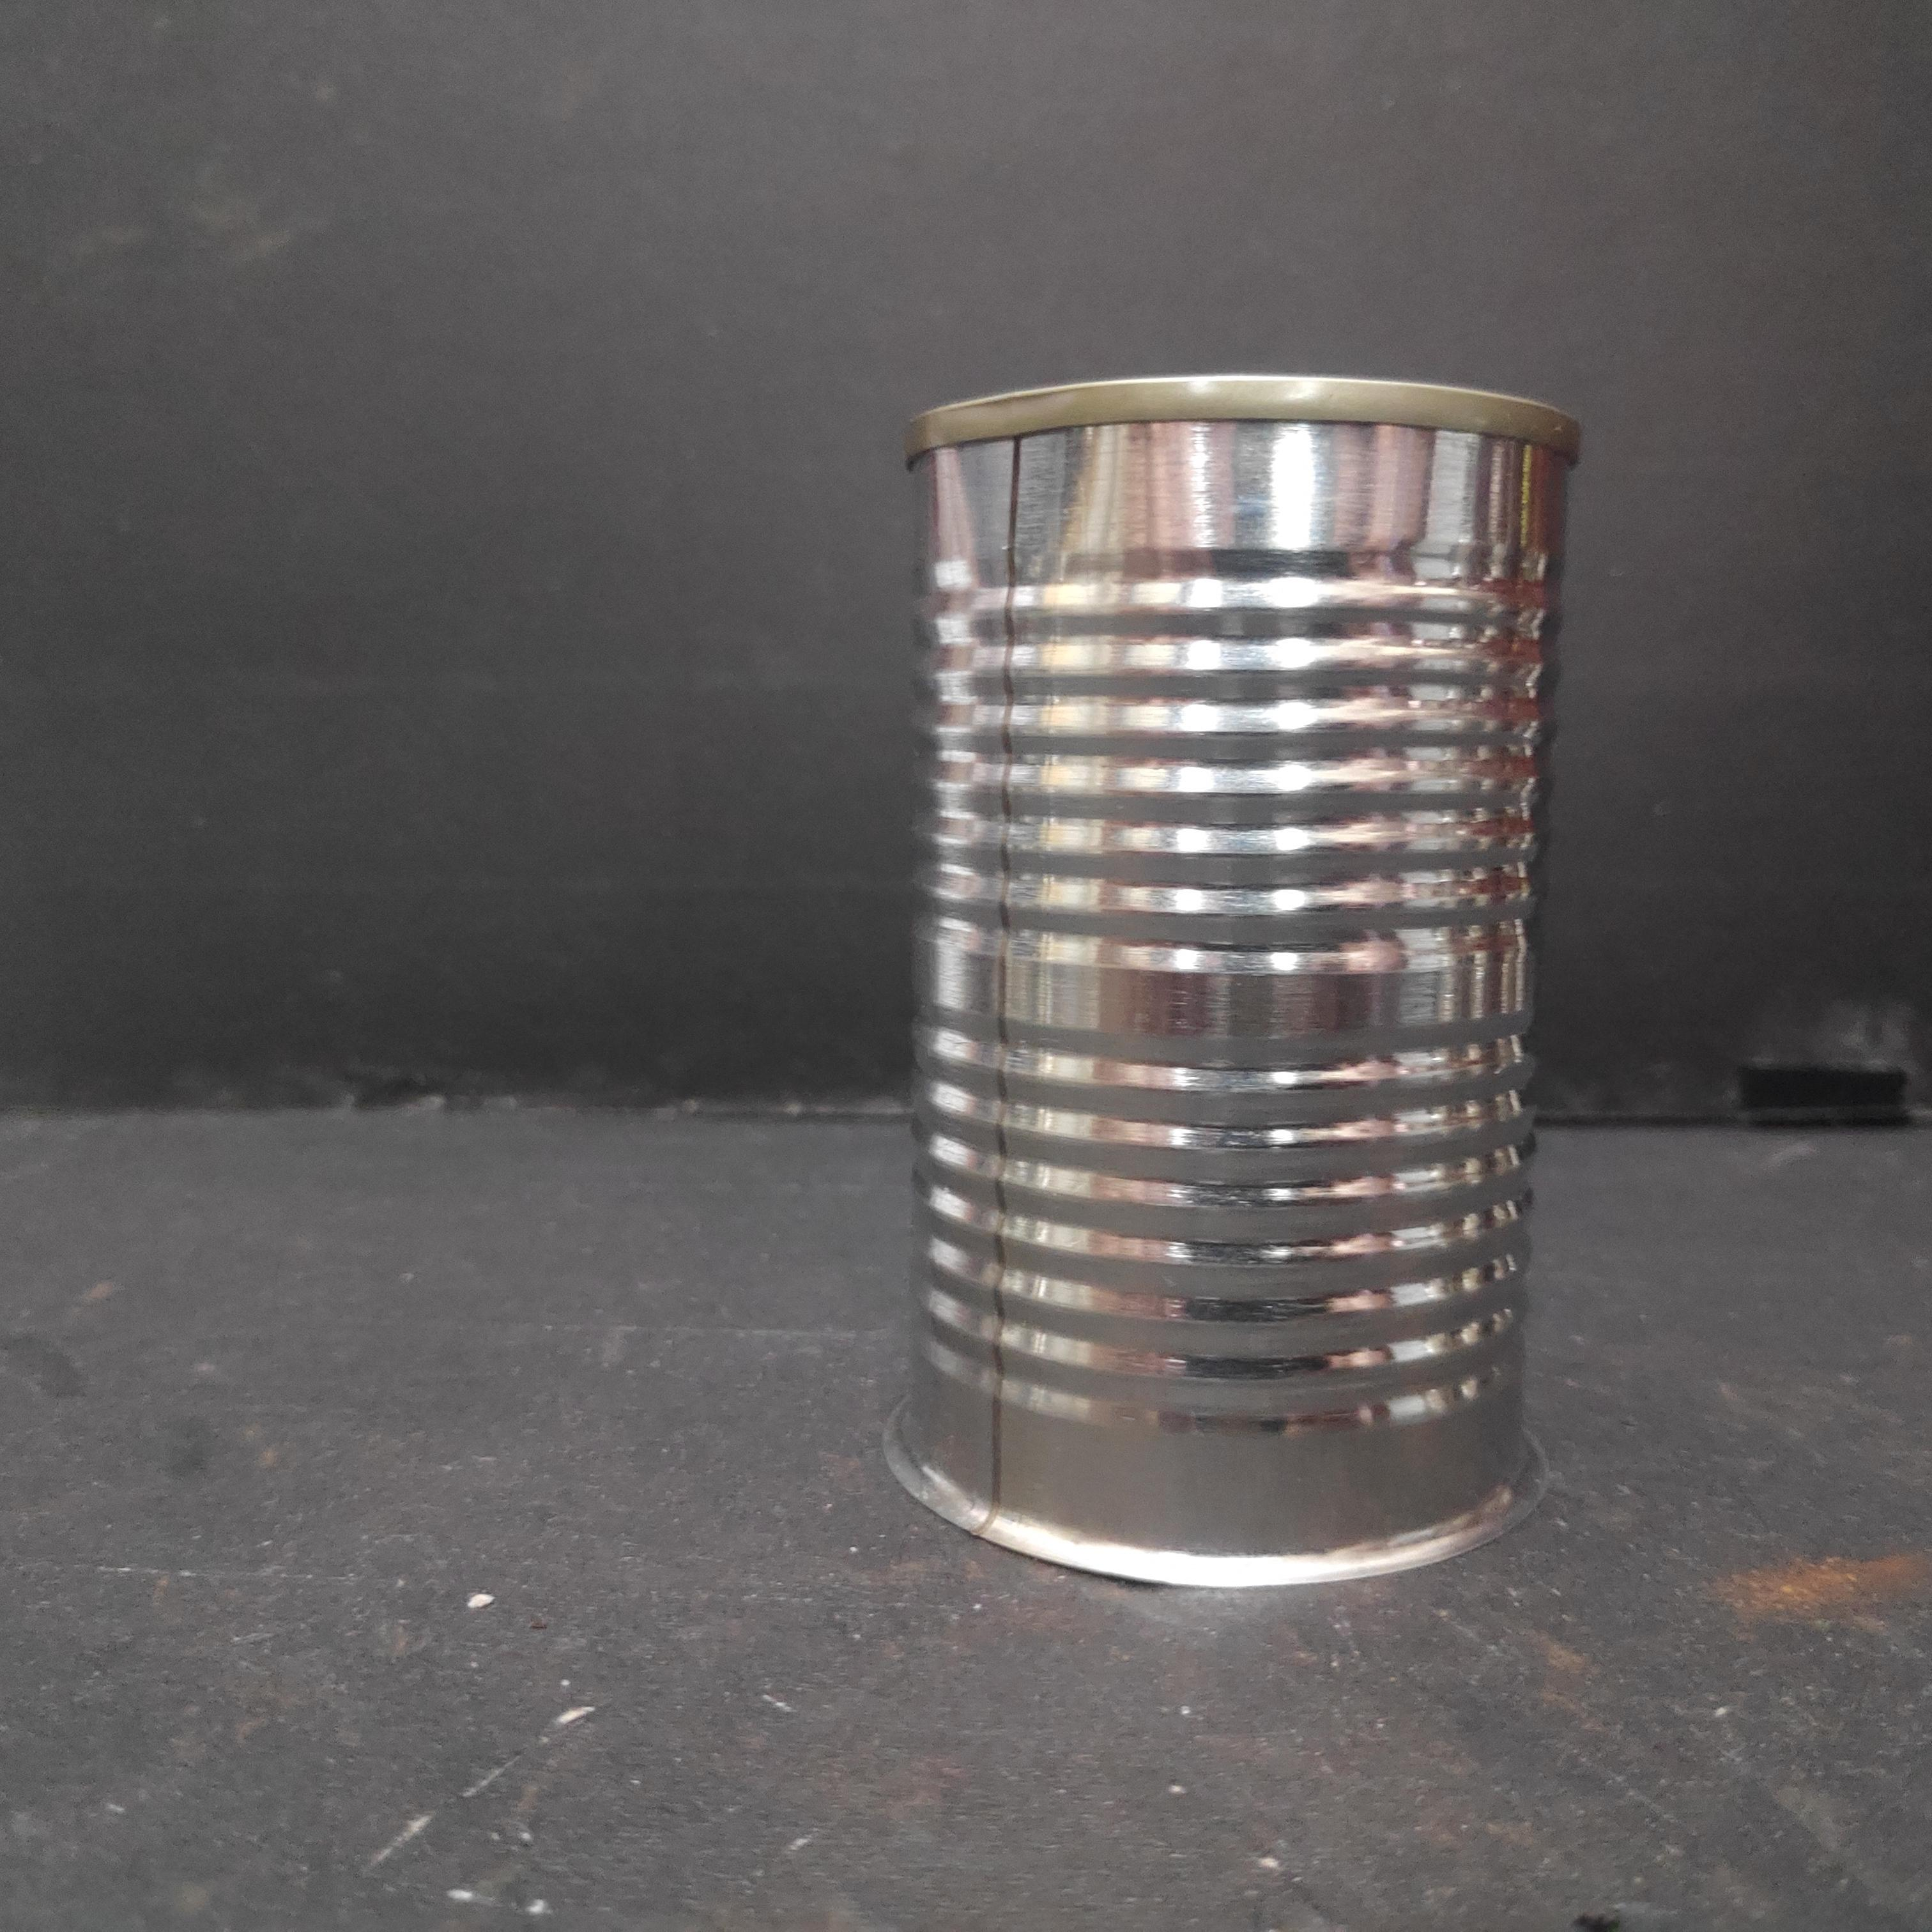Minor Defect: (895, 368, 1589, 1598)
